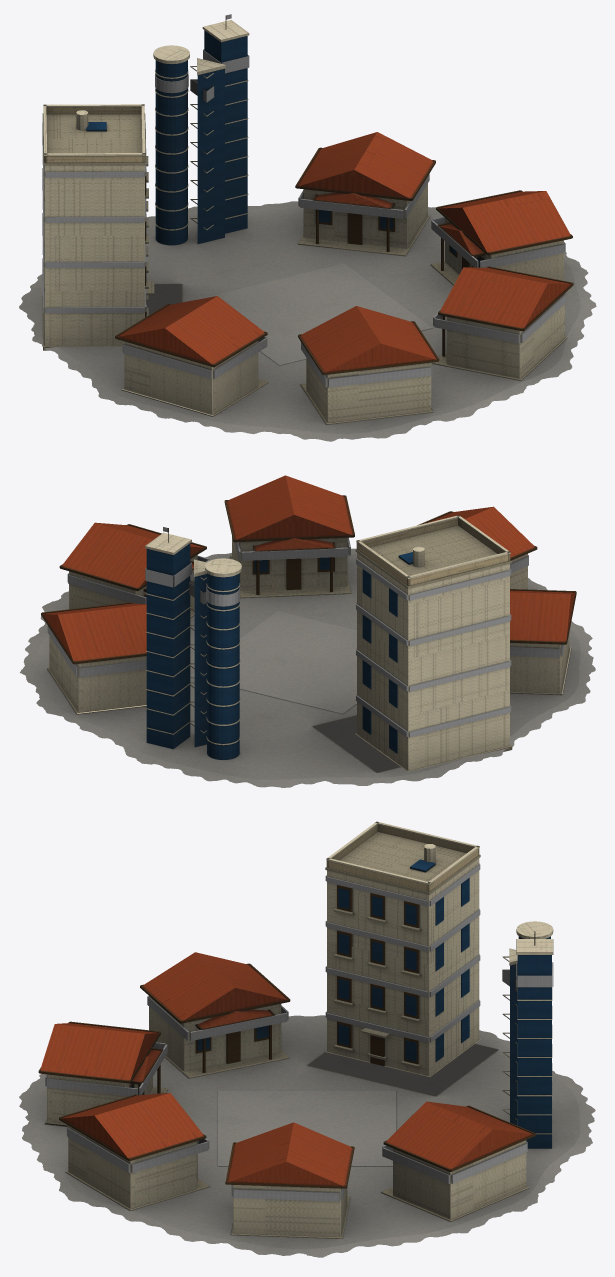
File: modern-town-small-a-israelite-ebb32616.glb
The picture shows the model from 3 angles, top to bottom: view 1: azimuth 30°, elevation 25°; view 2: azimuth 150°, elevation 25°; view 3: azimuth 270°, elevation 25°; orthographic projection.
Visible parts, largest first — view 1: LOD0; view 2: LOD0; view 3: LOD0.
Part boxes in pixels (bbox=[...]): LOD0: bbox=[19, 14, 596, 441]; LOD0: bbox=[20, 475, 595, 787]; LOD0: bbox=[19, 821, 595, 1257].
Size of what is drawn, in the model's own units: 3.99 by 1.6 by 3.96.
Materials: 3 (3 with a texture image).
